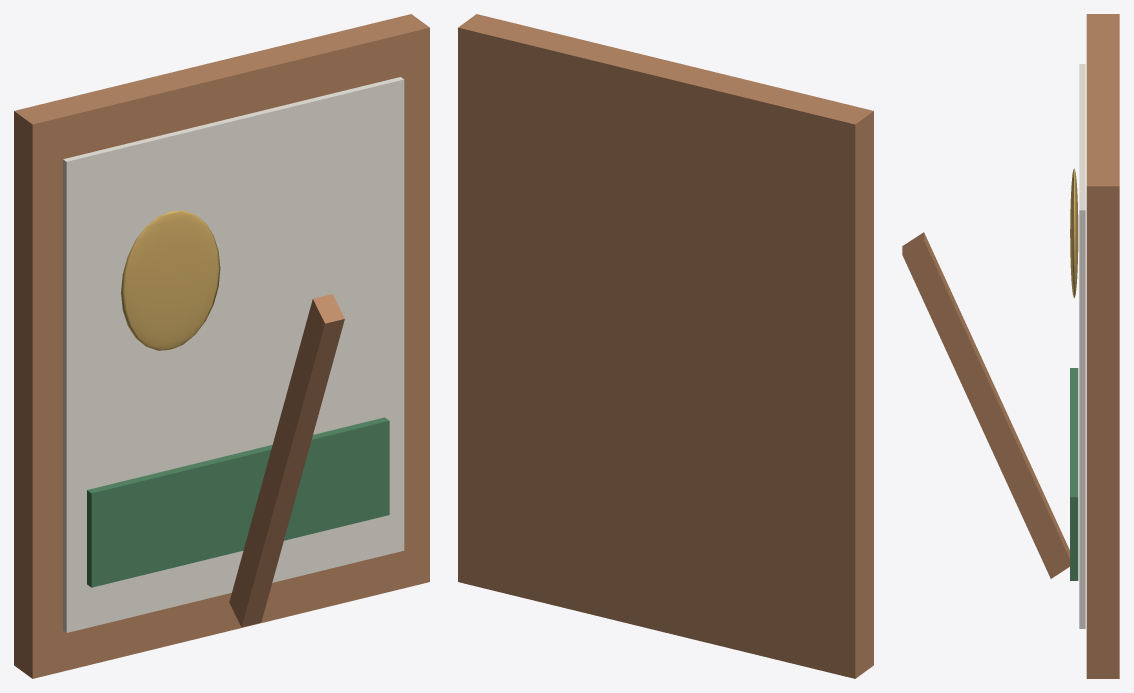
The model's file is picture-frame.glb.
3 views of the same model, side by side, from view 1: azimuth 30°, elevation 25°; view 2: azimuth 150°, elevation 25°; view 3: azimuth 270°, elevation 25° (orthographic). The views are drawn at different scales.
Parts seen in each view (by area): view 1: picture-frame; view 2: picture-frame; view 3: picture-frame.
Boxes of the visible parts, x1,y1,x2,y2 form: picture-frame: (14,14,429,678); picture-frame: (458,14,873,678); picture-frame: (902,14,1119,678).
Size of the model in its own units: 15 by 20 by 8.
